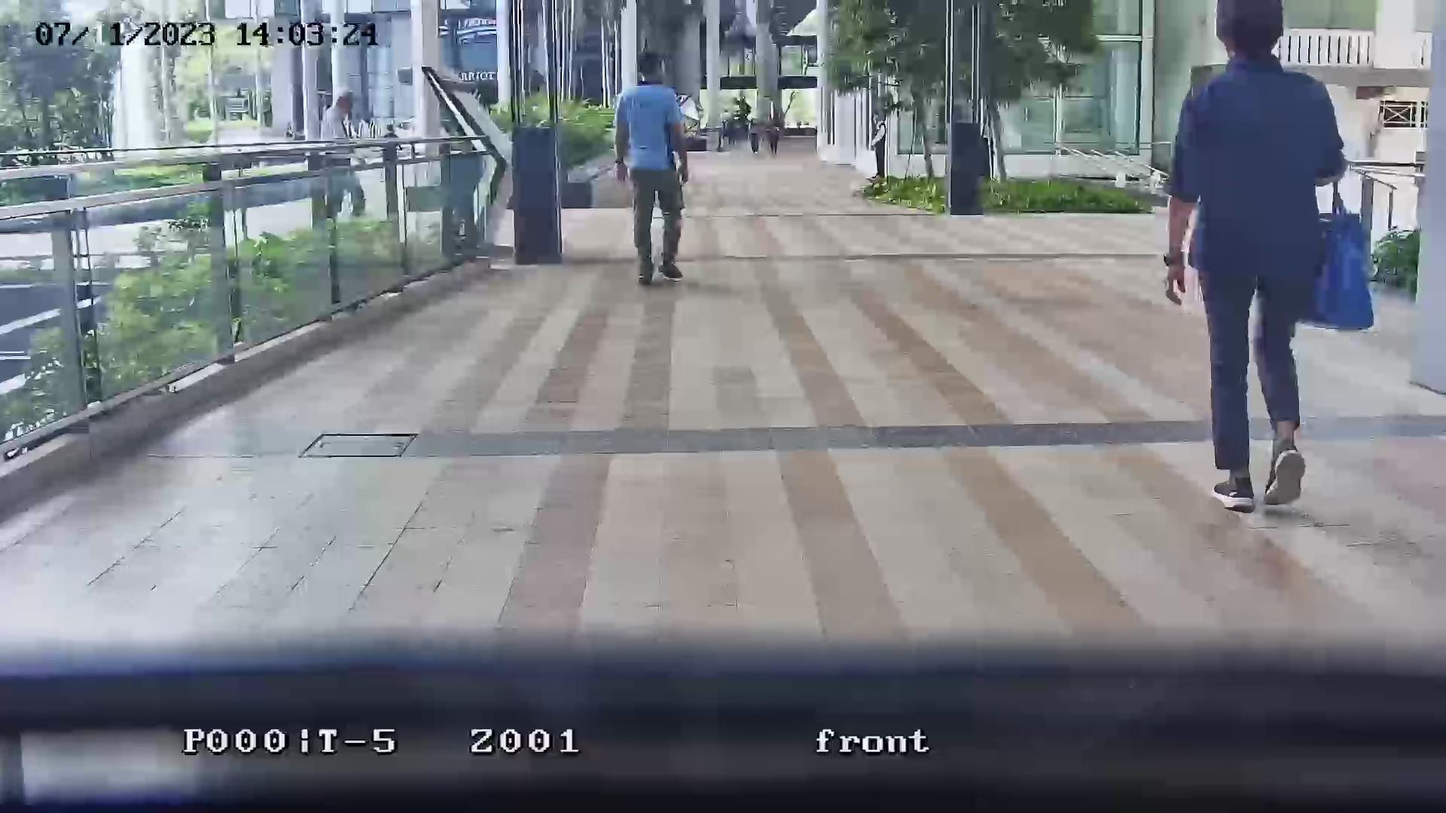person: (1162, 0, 1348, 512), (613, 50, 691, 288), (321, 92, 367, 218), (870, 112, 887, 179), (748, 117, 760, 155), (767, 122, 780, 154)
